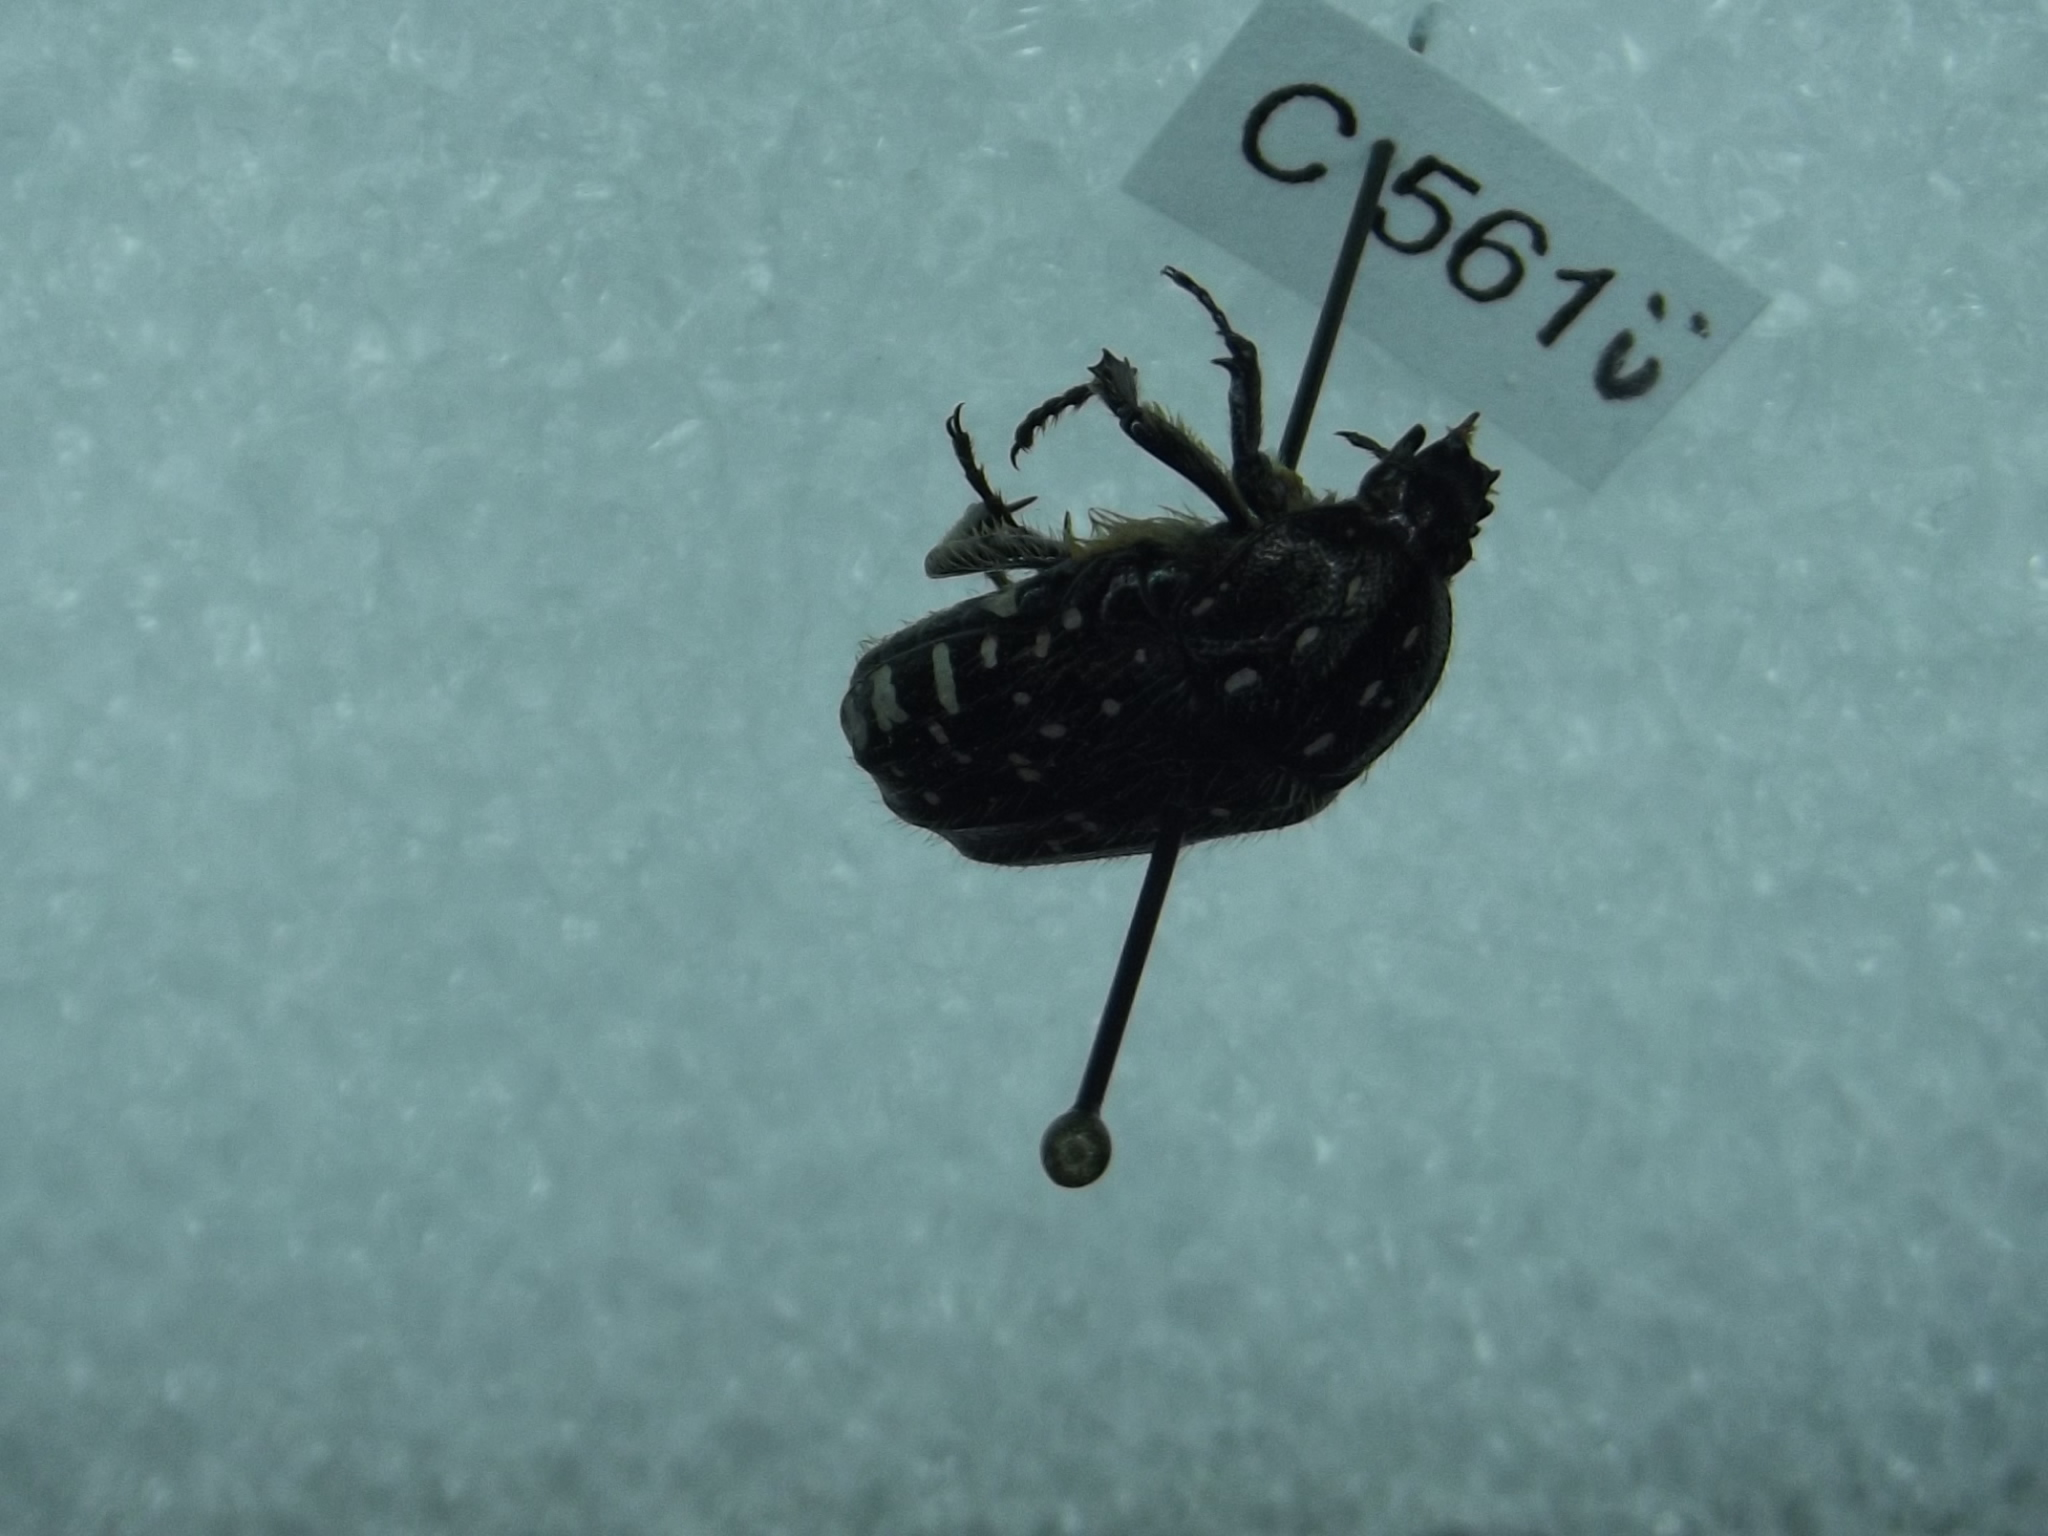Oxythyrea_funesta: (819, 252, 1509, 889)
